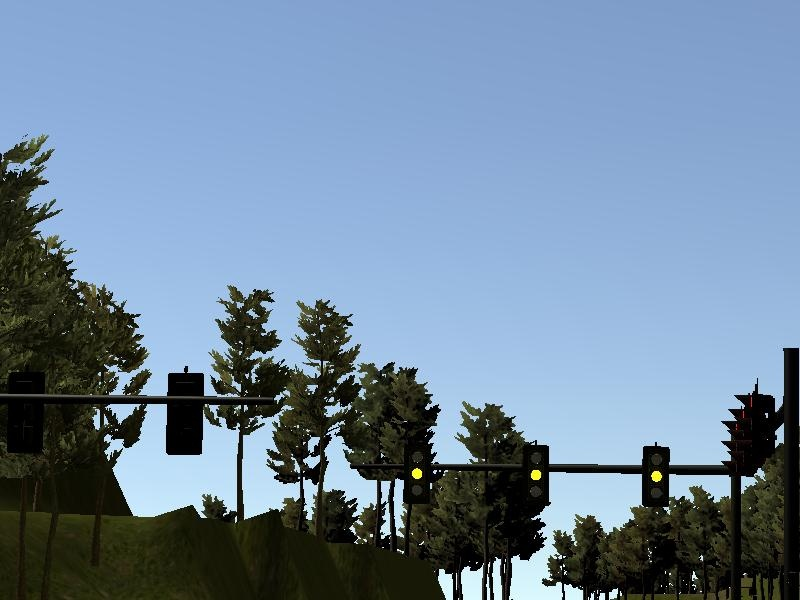yellow: (638, 437, 674, 511), (401, 433, 433, 508), (520, 438, 553, 510)
